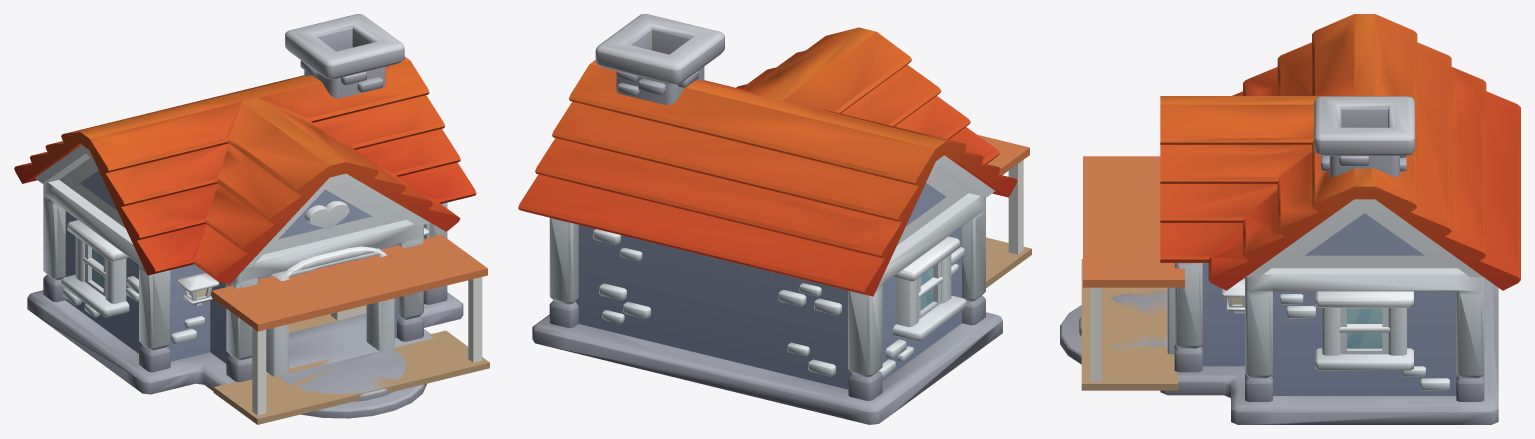
Rendered from tiny-treats-courtyard-v1.glb.
3 views of the same model, side by side, from view 1: azimuth 30°, elevation 25°; view 2: azimuth 150°, elevation 25°; view 3: azimuth 270°, elevation 25° (orthographic). The views are drawn at different scales.
Parts seen in each view (by area): view 1: roof, floor, wall_south, wall_west; view 2: roof, wall_north, floor, wall_west, wall_south; view 3: roof, wall_east, floor, wall_south, wall_north.
Part boxes in pixels (x1=…): roof: x1=14, y1=14, x2=487, y2=331; floor: x1=27, y1=290, x2=489, y2=424; wall_south: x1=148, y1=202, x2=482, y2=415; wall_west: x1=43, y1=194, x2=150, y2=371; roof: x1=518, y1=14, x2=1029, y2=296; wall_north: x1=549, y1=218, x2=872, y2=400; floor: x1=532, y1=237, x2=1031, y2=424; wall_west: x1=870, y1=209, x2=985, y2=399; wall_south: x1=982, y1=160, x2=1023, y2=299; roof: x1=1083, y1=14, x2=1520, y2=291; wall_east: x1=1248, y1=291, x2=1480, y2=401; floor: x1=1060, y1=259, x2=1498, y2=424; wall_south: x1=1090, y1=263, x2=1250, y2=401; wall_north: x1=1478, y1=290, x2=1484, y2=401.
Size of the model in its own units: 8.85 by 6.5 by 9.81.
Materials: 5 (1 with a texture image).
